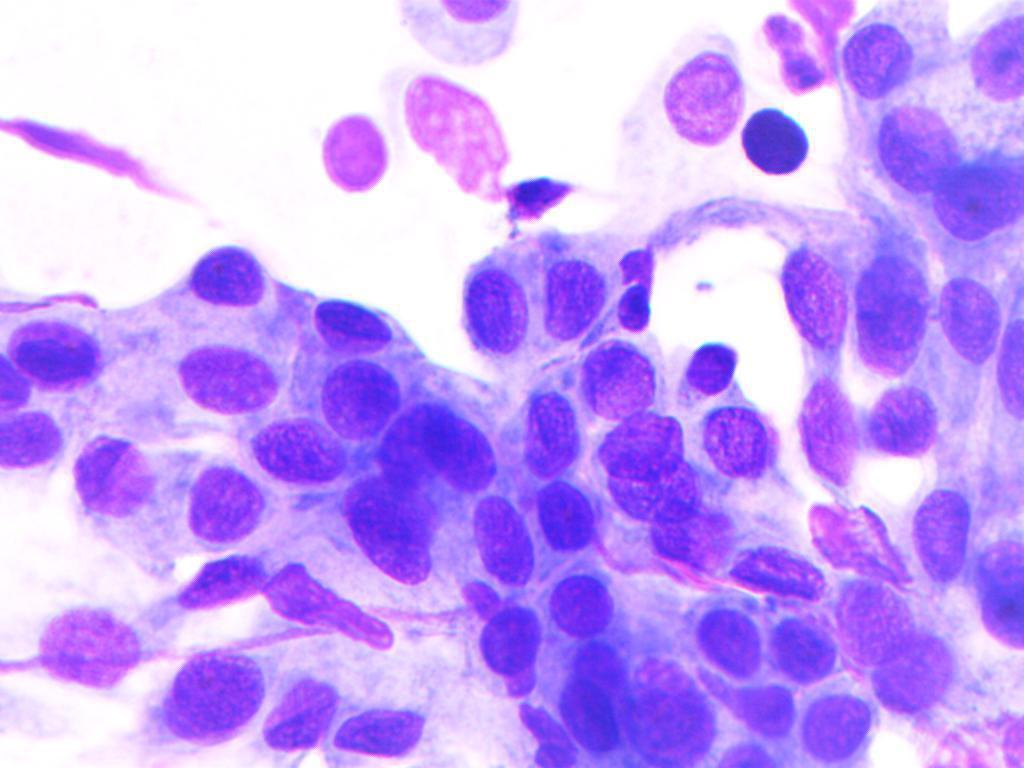artifact: (1, 96, 187, 201), (396, 67, 517, 201), (267, 551, 397, 661), (802, 508, 917, 591), (720, 533, 829, 610), (170, 543, 269, 618), (753, 8, 832, 97), (494, 176, 593, 230)
epithelial: (608, 25, 741, 198), (158, 641, 261, 767), (17, 594, 149, 689), (854, 232, 935, 385), (766, 227, 852, 360), (383, 0, 528, 78), (398, 391, 501, 498), (786, 361, 867, 497), (628, 653, 721, 768), (840, 12, 938, 113), (341, 482, 438, 584), (167, 336, 285, 419), (67, 418, 157, 526), (903, 459, 976, 588), (870, 96, 960, 196), (864, 632, 970, 716), (7, 306, 110, 391), (829, 579, 926, 668), (182, 454, 264, 559), (241, 407, 346, 488), (298, 110, 390, 201), (571, 332, 666, 420), (927, 159, 1024, 241), (499, 380, 578, 480), (262, 669, 342, 767), (311, 354, 400, 441), (961, 534, 1024, 656), (688, 590, 769, 684), (465, 251, 535, 358), (613, 450, 702, 534), (865, 376, 953, 459), (932, 263, 1002, 367), (461, 494, 537, 587), (535, 237, 603, 337), (327, 706, 447, 761), (596, 414, 697, 479), (0, 393, 83, 470), (797, 690, 876, 767), (969, 2, 1024, 112), (765, 610, 840, 690), (703, 406, 781, 482), (723, 677, 797, 737), (993, 288, 1024, 427)
metaplastic: (160, 218, 277, 319), (293, 273, 410, 358), (471, 595, 546, 701), (736, 98, 818, 188), (531, 473, 603, 561), (560, 678, 623, 757), (548, 575, 622, 639), (678, 340, 744, 400), (610, 280, 662, 333)
